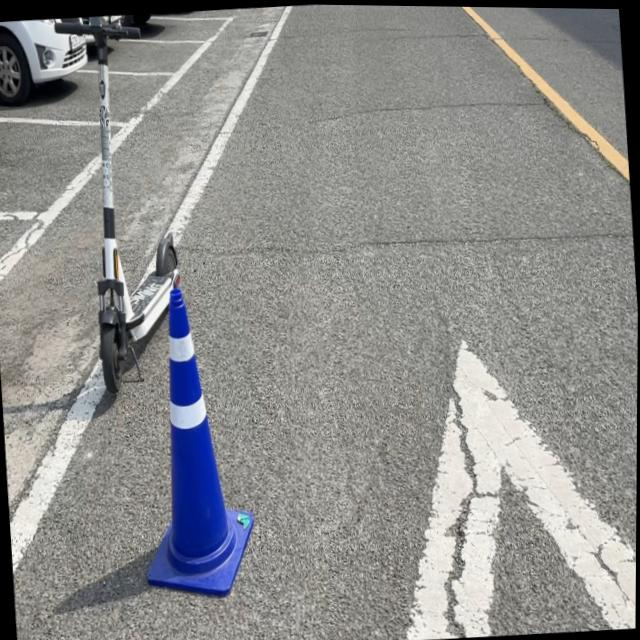b_rub: (147, 286, 254, 594)
